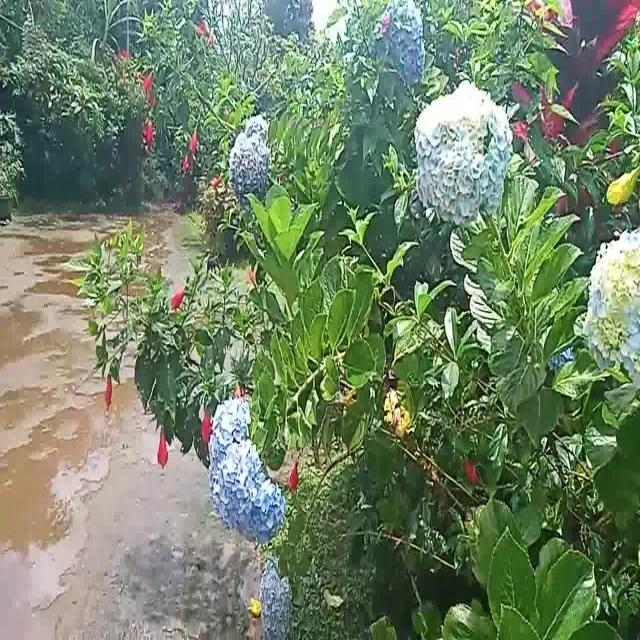Flower: (415, 81, 513, 227), (210, 396, 286, 543), (372, 1, 426, 78), (228, 115, 270, 193), (259, 555, 294, 628), (157, 421, 171, 471), (104, 368, 116, 417), (289, 454, 301, 491), (170, 284, 187, 310), (201, 408, 211, 450)
